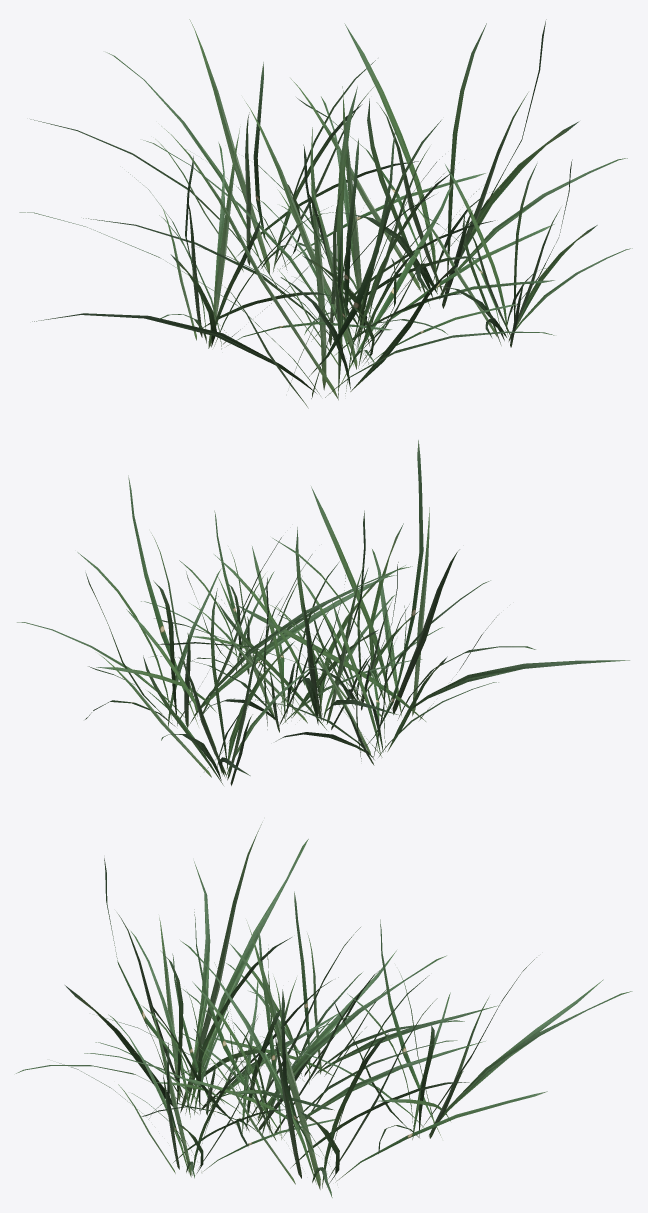
File: Detailed Grass 07 Variant 2.fbx
The picture shows the model from 3 angles, top to bottom: view 1: azimuth 30°, elevation 25°; view 2: azimuth 150°, elevation 25°; view 3: azimuth 270°, elevation 25°; orthographic projection. The views are drawn at different scales.
Visible parts, largest first — view 1: detailed_grass_07_2_LOD0; view 2: detailed_grass_07_2_LOD0; view 3: detailed_grass_07_2_LOD0.
Part boxes in pixels (x1=…): detailed_grass_07_2_LOD0: x1=19, y1=19, x2=632, y2=408; detailed_grass_07_2_LOD0: x1=17, y1=440, x2=629, y2=785; detailed_grass_07_2_LOD0: x1=16, y1=822, x2=632, y2=1197.
Size of what is drawn, in the model's own units: 181 by 77.82 by 164.
Materials: 1 (1 with a texture image).
